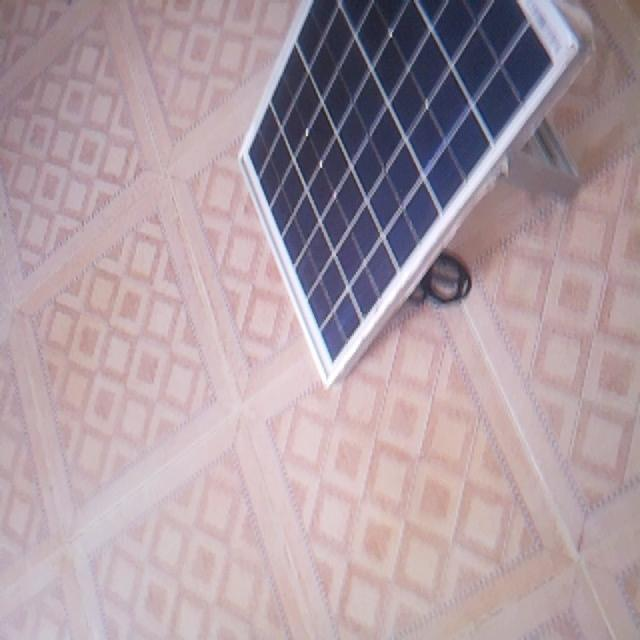Normal Solar Panel: (239, 0, 586, 387)
